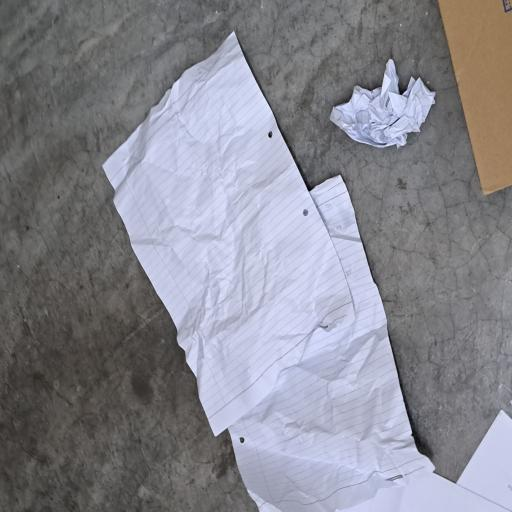paper: (58, 136, 362, 475), (0, 306, 254, 512), (271, 442, 341, 512)
